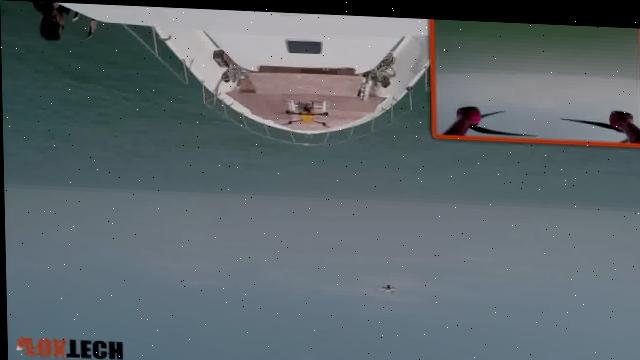drone: (278, 101, 344, 133), (365, 269, 406, 298)
